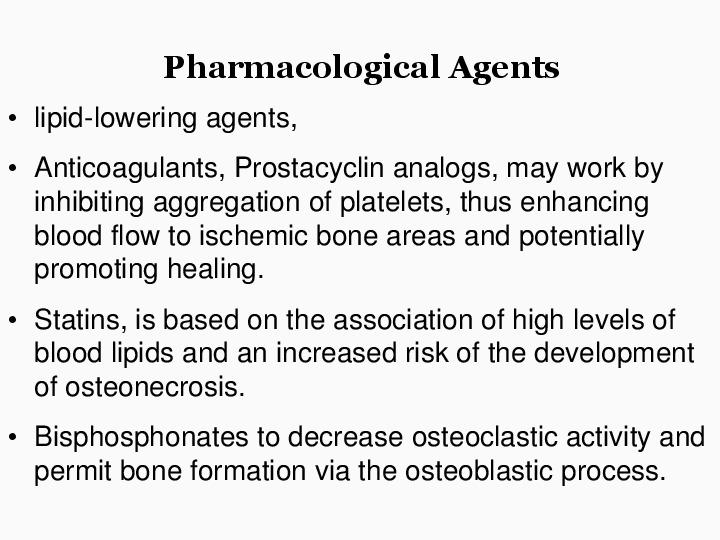paragraph: (3, 95, 720, 515)
title: (146, 46, 597, 90)
